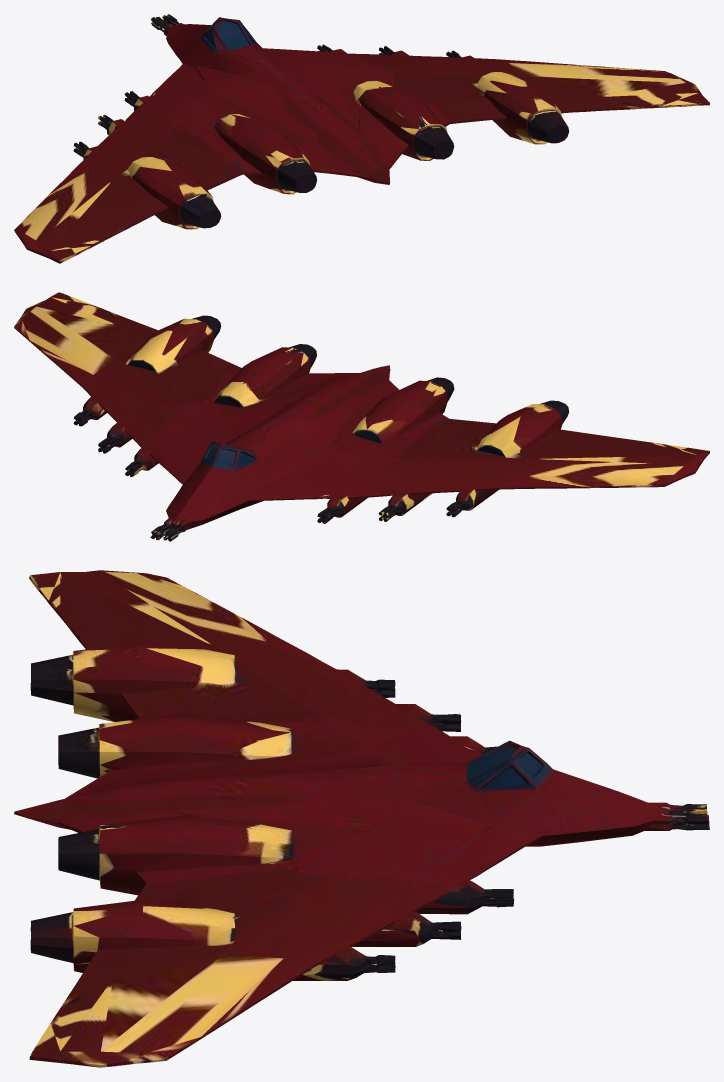
The model's file is boss1_admiral_lite.glb.
The picture shows the model from 3 angles, top to bottom: view 1: azimuth 30°, elevation 25°; view 2: azimuth 150°, elevation 25°; view 3: azimuth 270°, elevation 25°; orthographic projection. The views are drawn at different scales.
Visible parts, largest first — view 1: Boss1; view 2: Boss1; view 3: Boss1.
Boxes of the visible parts, left/top/right/bottom form: Boss1: left=14, top=14, right=709, bottom=263; Boss1: left=14, top=292, right=709, bottom=541; Boss1: left=14, top=570, right=709, bottom=1067.
Bounding box in the file's own units: 6.8 × 0.6878 × 4.04.
Materials: 1 (1 with a texture image).
